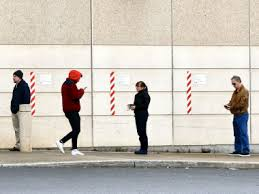Caution: (57, 69, 150, 155), (11, 69, 86, 102)
Good: (126, 74, 249, 156)
